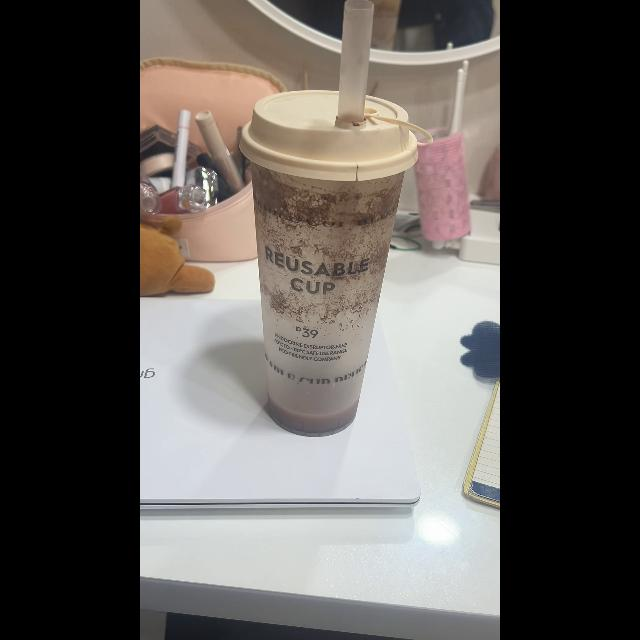dirty: (252, 166, 390, 440)
